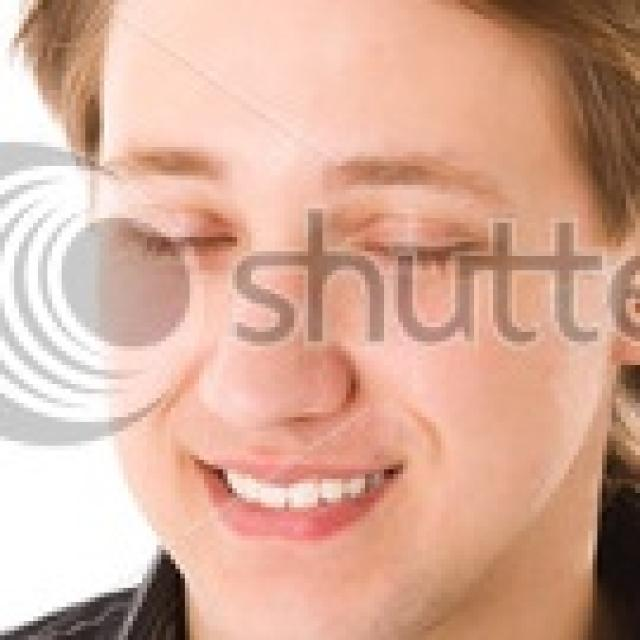Eyeclosed: (354, 216, 482, 282), (131, 214, 235, 274)
